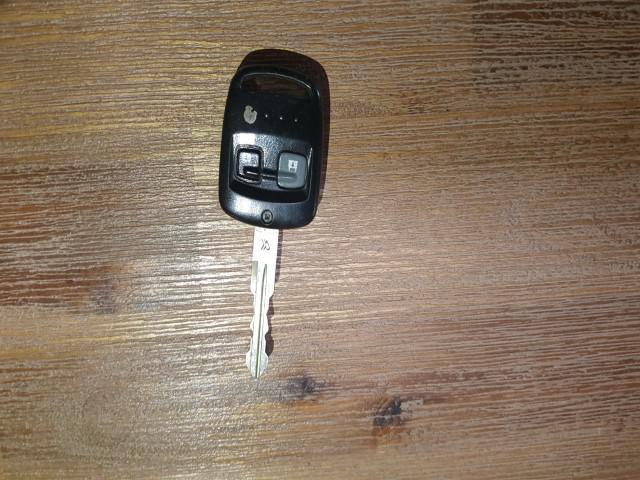key: (220, 61, 330, 330)
